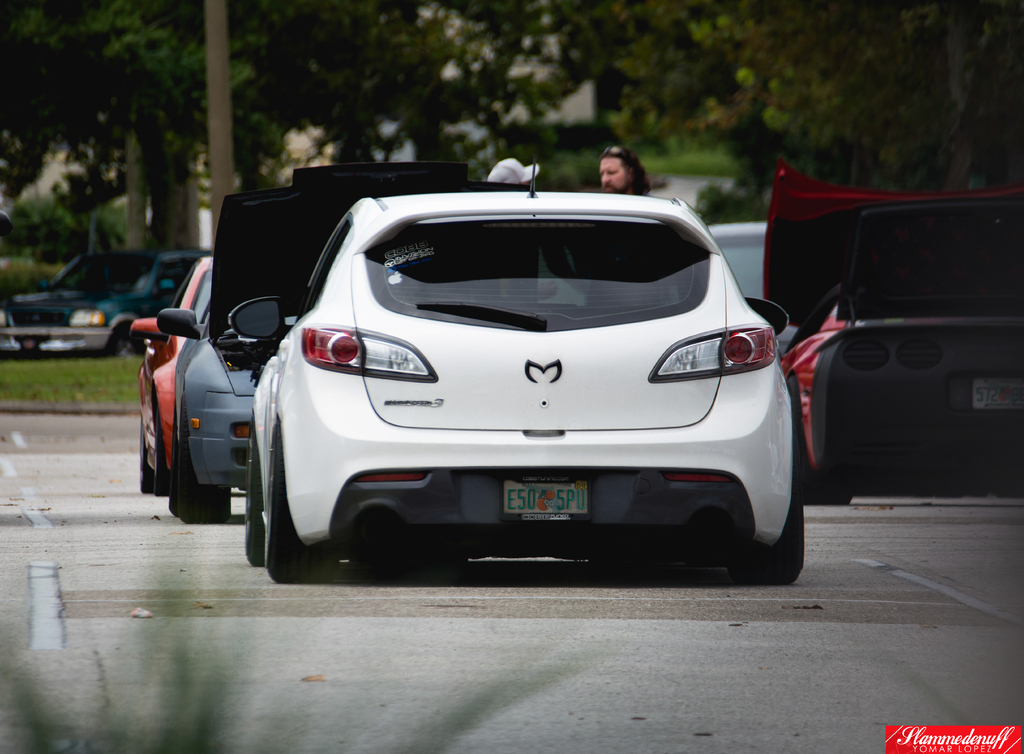Car: (4, 149, 1023, 582)
